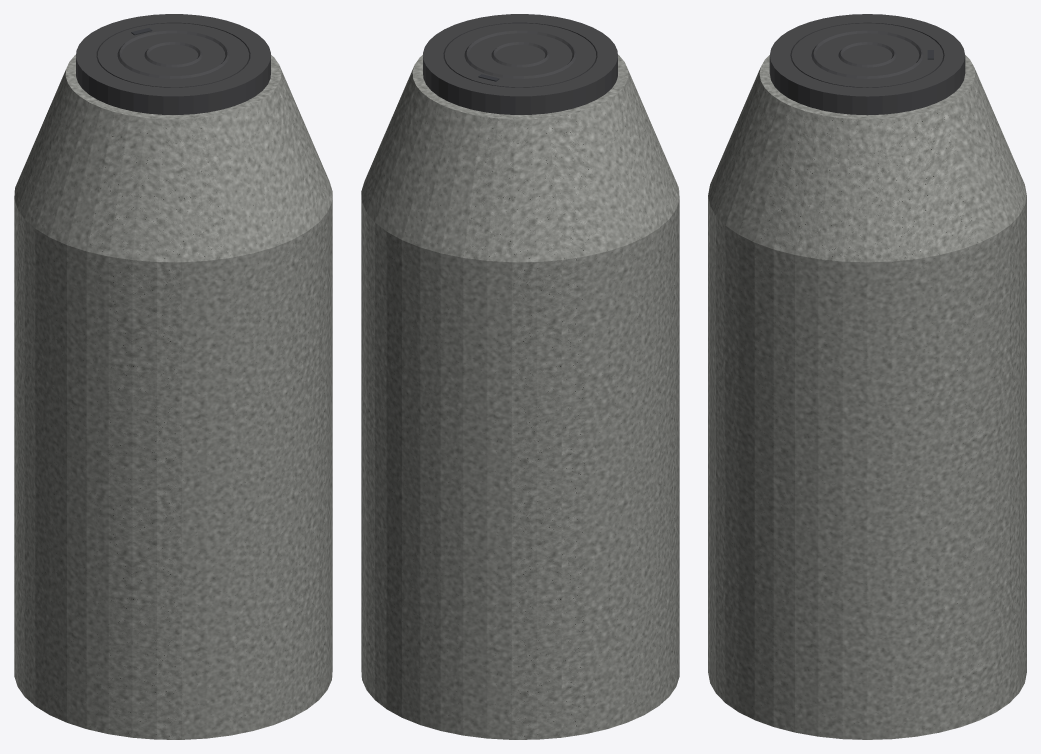
3 views of the same model, side by side, from view 1: azimuth 30°, elevation 25°; view 2: azimuth 150°, elevation 25°; view 3: azimuth 270°, elevation 25° (orthographic).
Visible parts, largest first — view 1: coverLevelOffset=0;coverMaterial=cast_iron;coverShape=round; (×2); view 2: coverLevelOffset=0;coverMaterial=cast_iron;coverShape=round; (×2); view 3: coverLevelOffset=0;coverMaterial=cast_iron;coverShape=round; (×2).
Boxes of the visible parts, <box> form: coverLevelOffset=0;coverMaterial=cast_iron;coverShape=round; (×2): <box>14,14,332,739</box>; coverLevelOffset=0;coverMaterial=cast_iron;coverShape=round; (×2): <box>361,14,679,739</box>; coverLevelOffset=0;coverMaterial=cast_iron;coverShape=round; (×2): <box>708,14,1026,739</box>.
Bounding box in the file's own units: 1.24 × 1.24 × 2.66.
4 materials, 1 textured.
